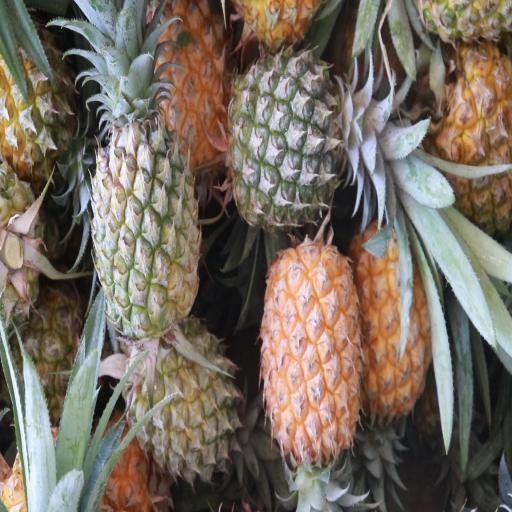Pineapple - v8 v1: (252, 236, 371, 498), (350, 212, 440, 436), (148, 0, 235, 204)
